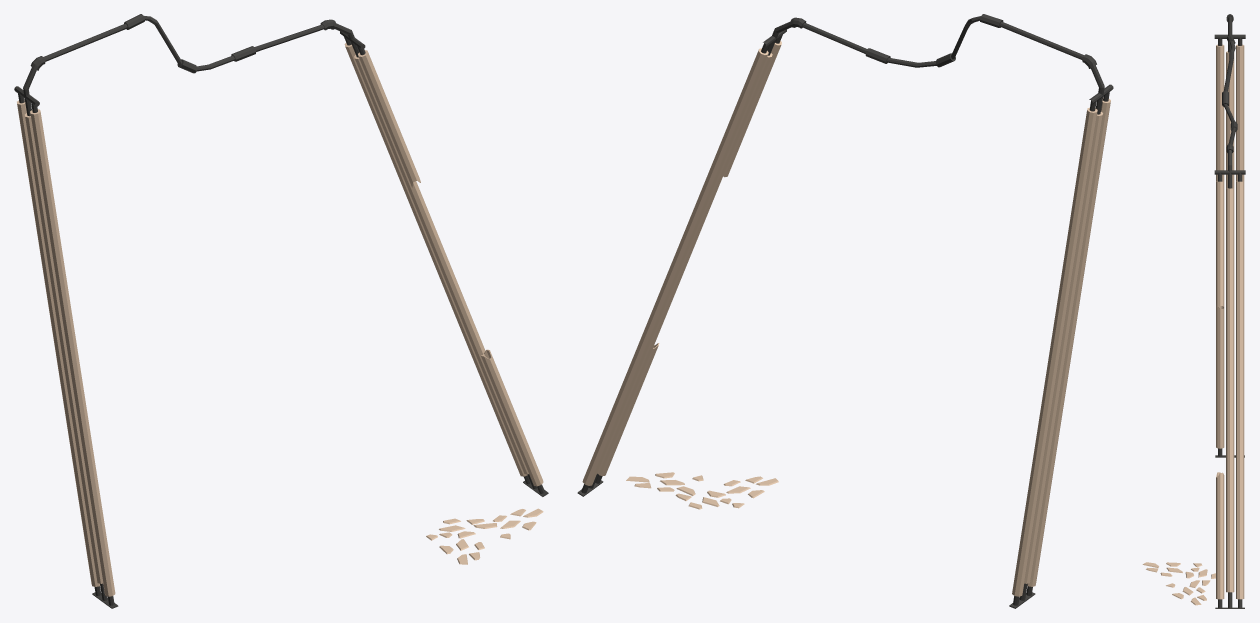
File: SM_Ultraviolet_Lamp_Broken.gltf
3 renders of one model, left to right at view 1: azimuth 30°, elevation 25°; view 2: azimuth 150°, elevation 25°; view 3: azimuth 270°, elevation 25°, orthographic. The views are drawn at different scales.
Parts seen in each view (by area): view 1: SM_Ultraviolet_Lamp_Broken; view 2: SM_Ultraviolet_Lamp_Broken; view 3: SM_Ultraviolet_Lamp_Broken.
Part boxes in pixels (x1,y1,x2,y2): SM_Ultraviolet_Lamp_Broken: (14, 14, 548, 608); SM_Ultraviolet_Lamp_Broken: (577, 14, 1113, 608); SM_Ultraviolet_Lamp_Broken: (1142, 14, 1245, 608).
Bounding box in the file's own units: 2.24 × 2.4 × 0.5197.
